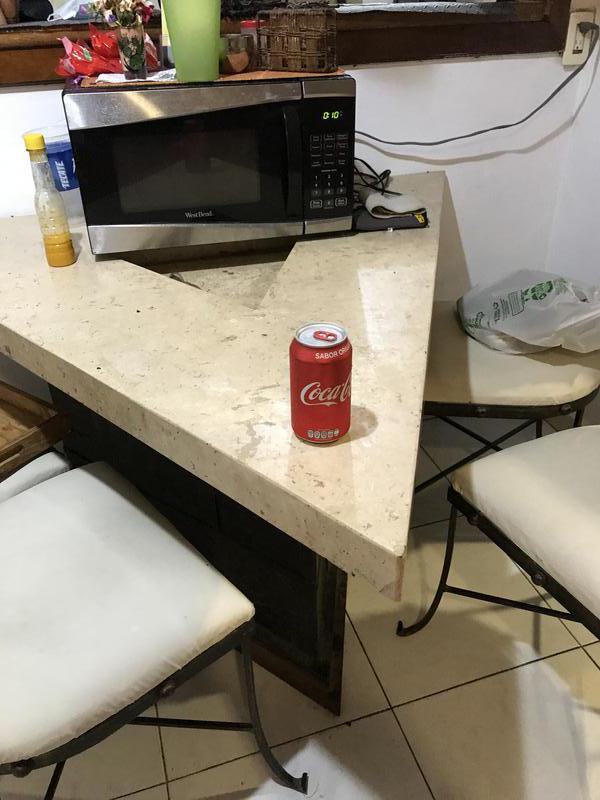coca_cola: (290, 325, 355, 445)
